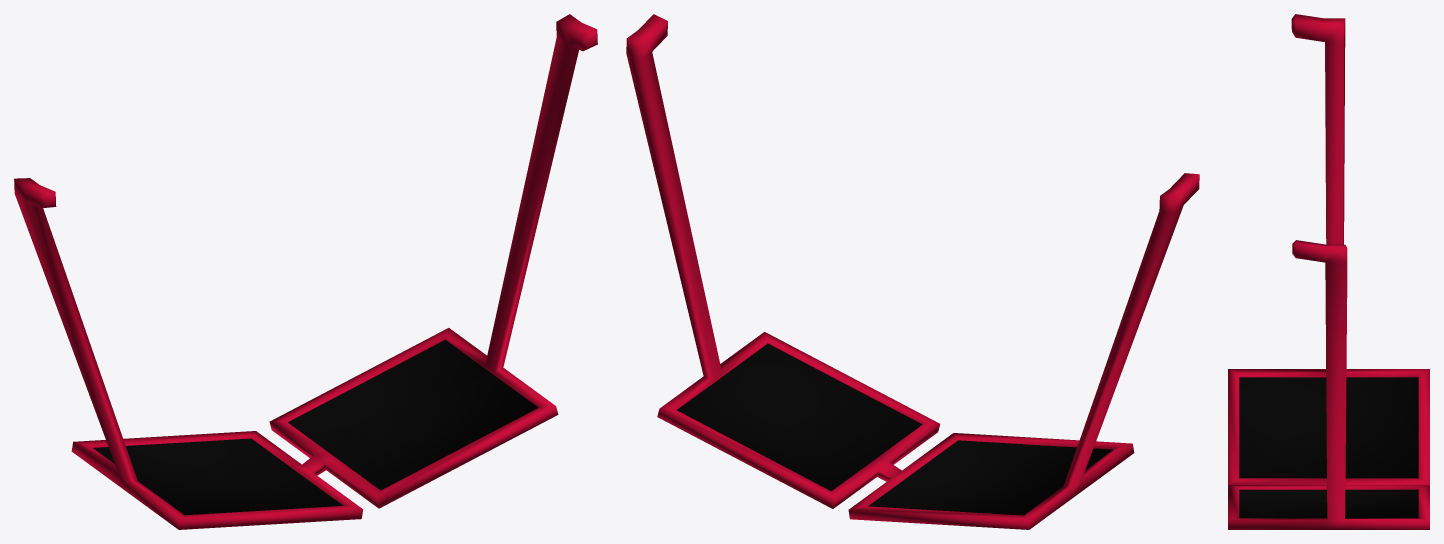
The model's file is item-beach-glasses.glb.
3 views of the same model, side by side, from view 1: azimuth 30°, elevation 25°; view 2: azimuth 150°, elevation 25°; view 3: azimuth 270°, elevation 25° (orthographic). The views are drawn at different scales.
Size of the model in its own units: 0.8127 by 0.5533 by 0.2708.
